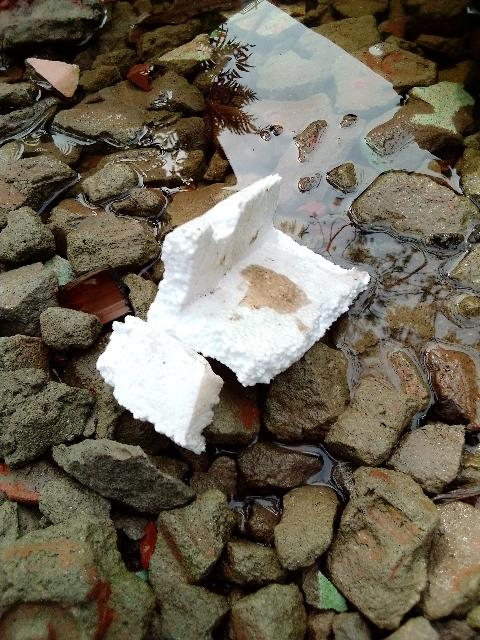cocksheet: (120, 166, 388, 433)
